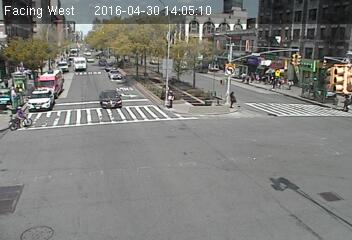neg: (110, 52, 128, 76), (36, 86, 52, 107), (59, 100, 74, 120), (139, 39, 153, 58), (35, 119, 49, 137), (80, 71, 92, 88), (102, 58, 114, 73), (68, 56, 79, 70), (47, 61, 57, 76), (40, 66, 50, 80), (131, 51, 141, 64), (59, 58, 68, 71), (219, 76, 228, 88), (87, 56, 95, 67), (29, 90, 37, 100), (27, 73, 35, 83), (192, 71, 200, 81), (95, 49, 102, 58), (209, 75, 216, 83)
pos: (10, 105, 26, 127), (226, 88, 240, 107), (341, 91, 351, 110), (238, 70, 249, 85), (275, 76, 286, 91), (249, 72, 257, 83), (269, 78, 276, 88), (246, 76, 251, 83)
